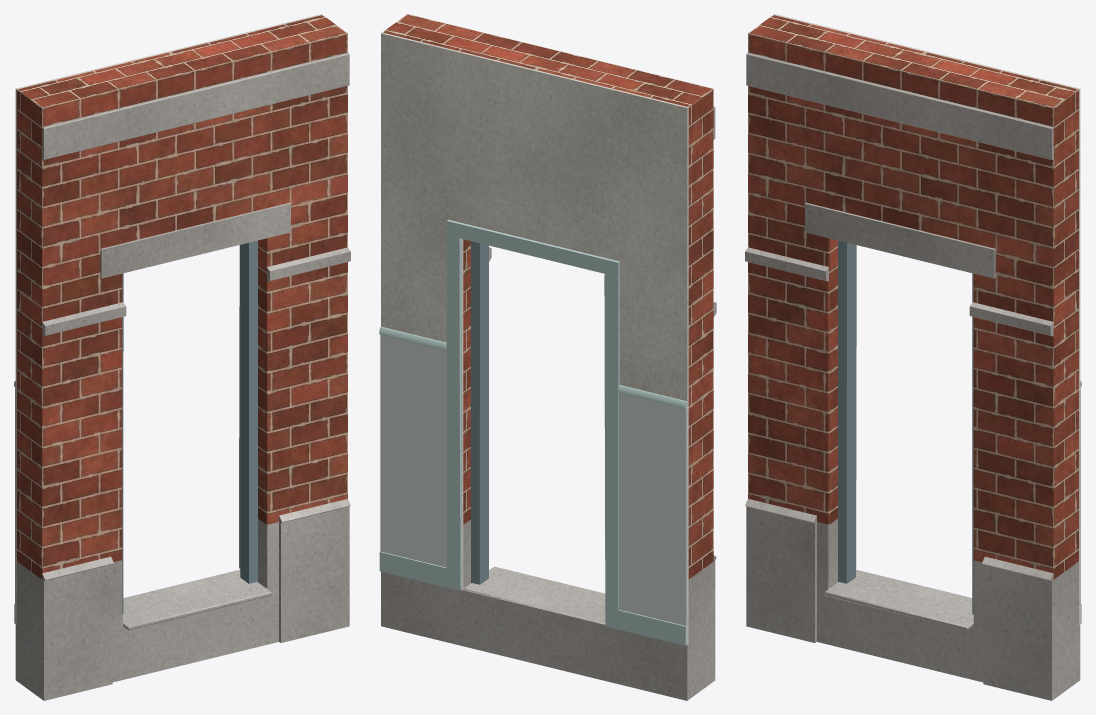
The model's file is w_door.glb.
3 views of the same model, side by side, from view 1: azimuth 30°, elevation 25°; view 2: azimuth 150°, elevation 25°; view 3: azimuth 330°, elevation 25° (orthographic).
Parts seen in each view (by area): view 1: w_door_brick, w_door_concrete, w_door_frame, w_door_plaster, w_door_tile_c; view 2: w_door_plaster, w_door_tile_w, w_door_concrete, w_door_brick, w_door_tile_c, w_door_frame; view 3: w_door_brick, w_door_concrete, w_door_frame, w_door_plaster.
Part boxes in pixels (x1=…): w_door_brick: x1=17, y1=15, x2=347, y2=579; w_door_concrete: x1=15, y1=52, x2=350, y2=700; w_door_frame: x1=122, y1=240, x2=257, y2=614; w_door_plaster: x1=15, y1=14, x2=322, y2=624; w_door_tile_c: x1=14, y1=245, x2=240, y2=623; w_door_plaster: x1=381, y1=32, x2=688, y2=644; w_door_tile_w: x1=380, y1=334, x2=687, y2=645; w_door_concrete: x1=381, y1=106, x2=716, y2=700; w_door_brick: x1=382, y1=14, x2=713, y2=579; w_door_tile_c: x1=379, y1=219, x2=687, y2=645; w_door_frame: x1=471, y1=241, x2=488, y2=584; w_door_brick: x1=748, y1=15, x2=1078, y2=579; w_door_concrete: x1=745, y1=52, x2=1080, y2=700; w_door_frame: x1=838, y1=240, x2=973, y2=614; w_door_plaster: x1=773, y1=14, x2=1080, y2=624.
Bounding box in the file's own units: 2 × 3.7 × 0.38.
6 materials, 3 textured.
